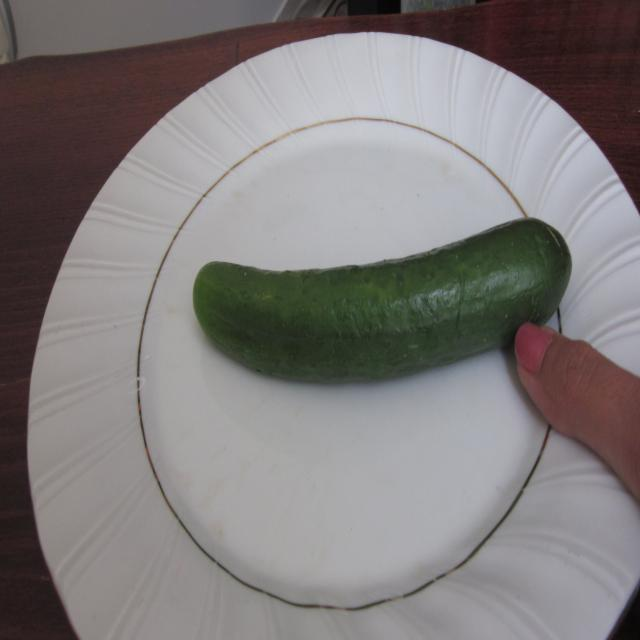cucumber: (162, 216, 590, 407)
